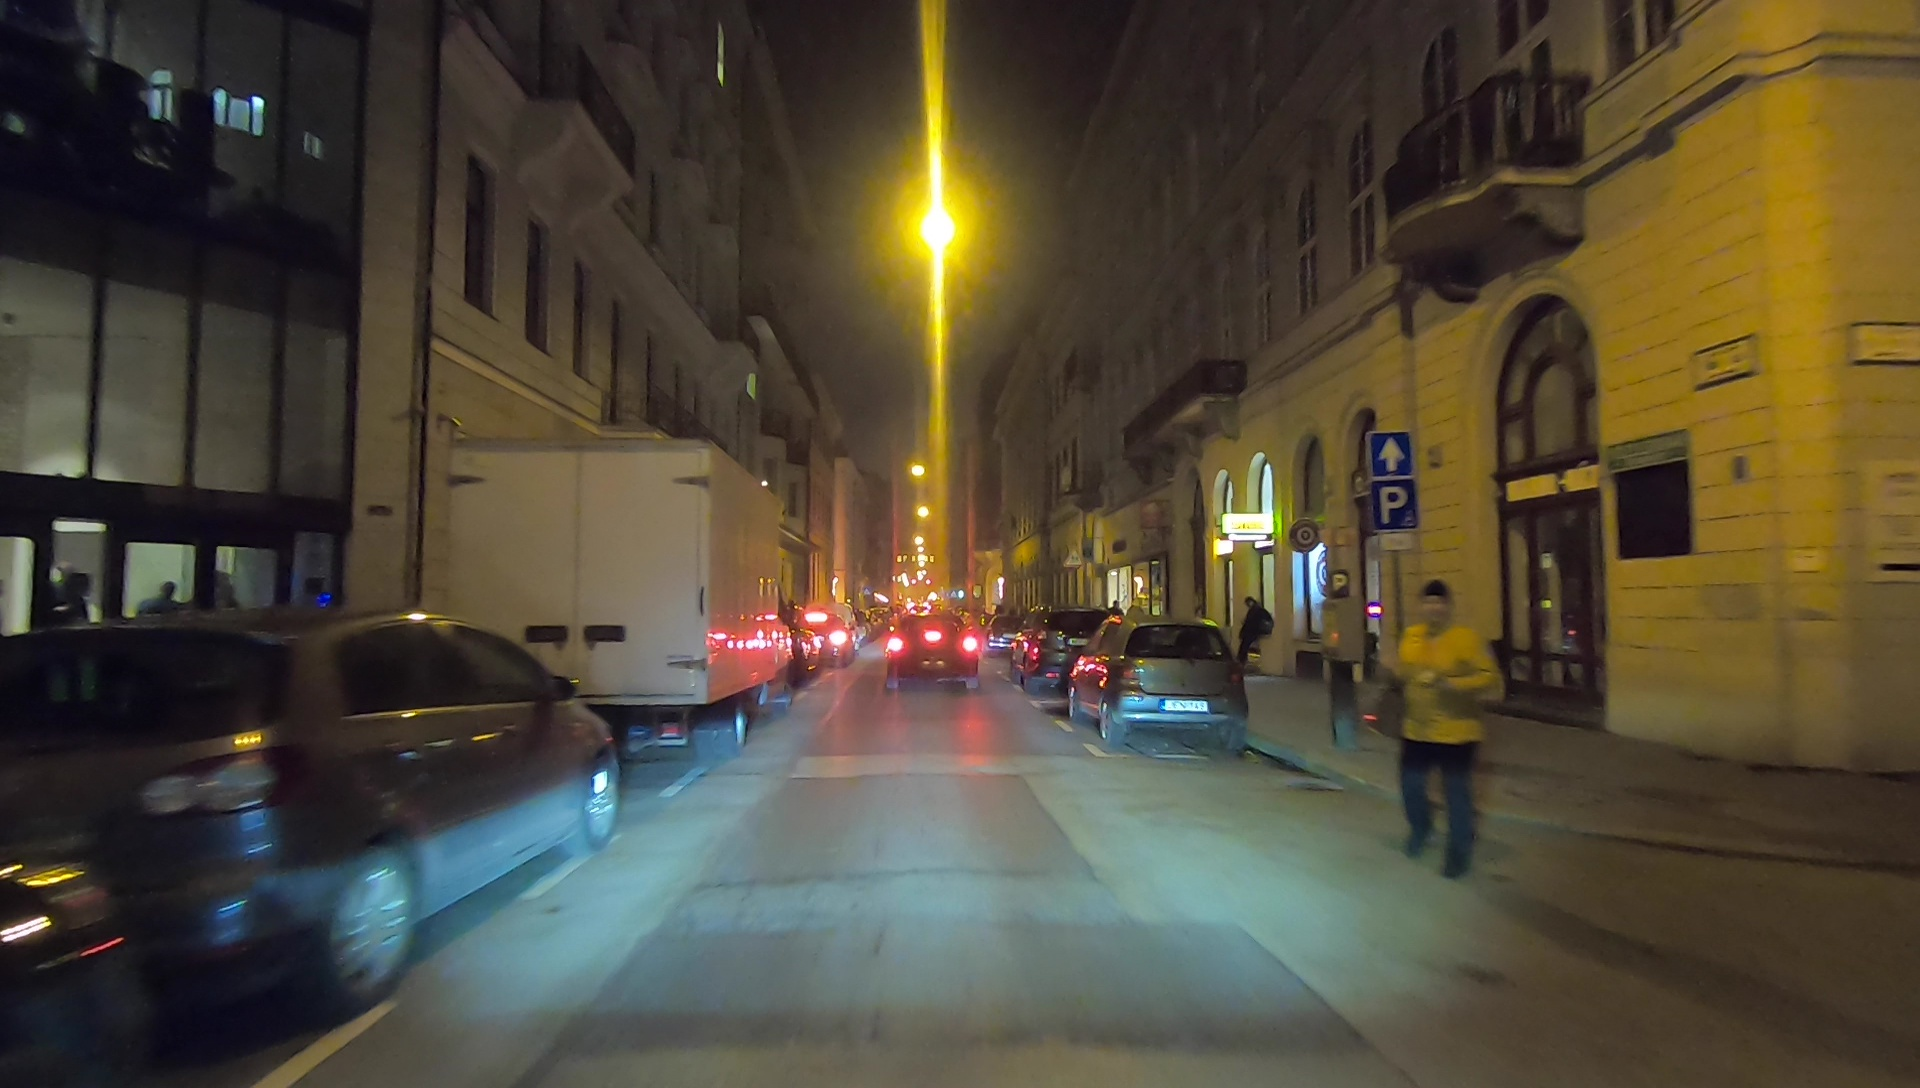person: (1384, 573, 1501, 887), (1234, 597, 1275, 678)
